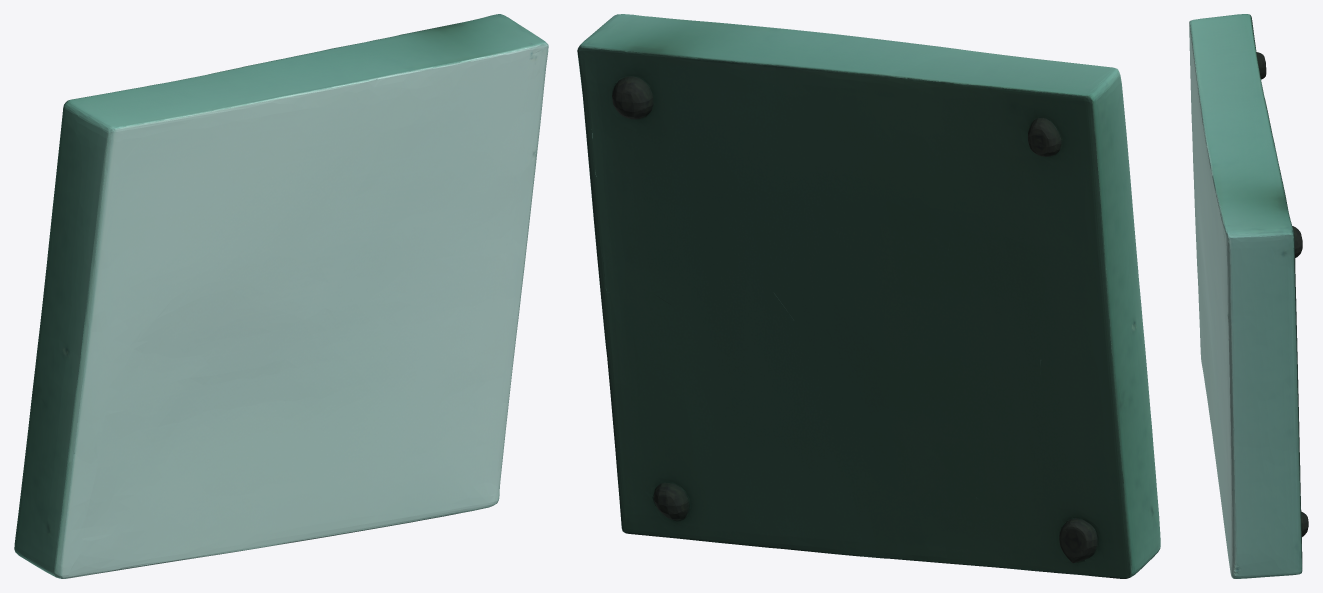
3 renders of one model, left to right at view 1: azimuth 30°, elevation 25°; view 2: azimuth 150°, elevation 25°; view 3: azimuth 270°, elevation 25°, orthographic. The views are drawn at different scales.
Parts seen in each view (by area): view 1: world; view 2: world; view 3: world.
Boxes of the visible parts, x1=… form: world: x1=14, y1=14, x2=548, y2=578; world: x1=577, y1=14, x2=1160, y2=578; world: x1=1189, y1=14, x2=1308, y2=578.
Bounding box in the file's own units: 0.0784 × 0.0724 × 0.0196.
Materials: 1 (1 with a texture image).
